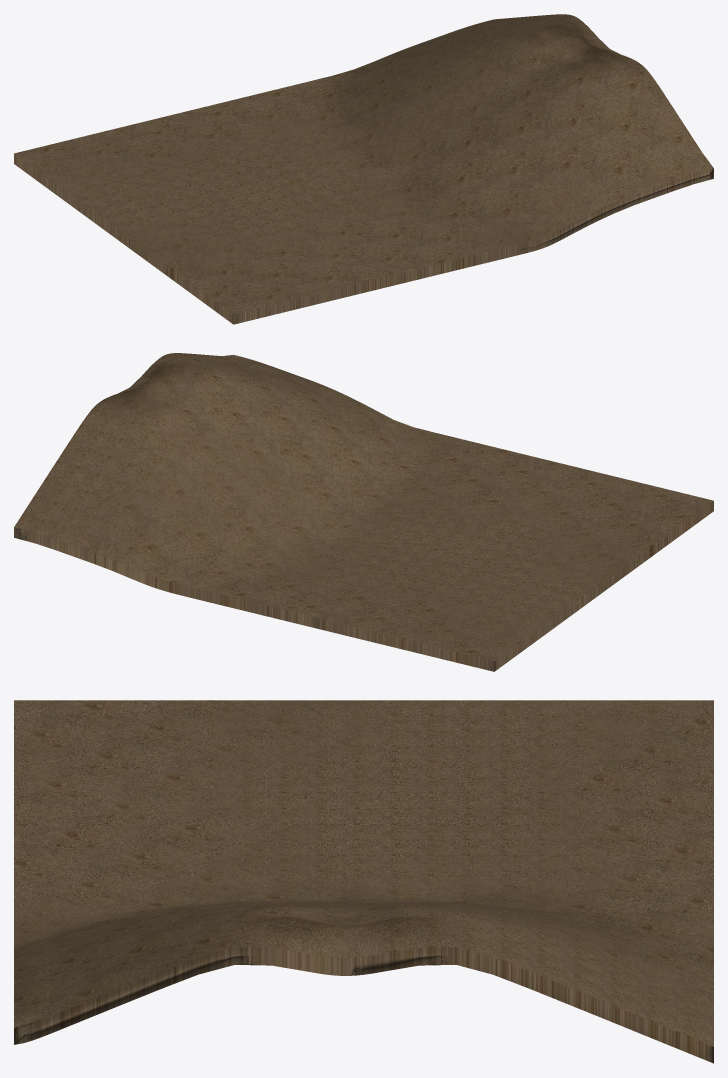
File: chunk_0_5.glb
3 renders of one model, top to bottom at view 1: azimuth 30°, elevation 25°; view 2: azimuth 150°, elevation 25°; view 3: azimuth 270°, elevation 25°, orthographic. The views are drawn at different scales.
Parts seen in each view (by area): view 1: Terrain_L1, Terrain_L0, Terrain_L2; view 2: Terrain_L1, Terrain_L0, Terrain_L2; view 3: Terrain_L1, Terrain_L0, Terrain_L2.
Boxes of the visible parts, x1,y1,x2,y2 form: Terrain_L1: (14,15,710,323); Terrain_L0: (14,14,713,324); Terrain_L2: (14,18,713,323); Terrain_L1: (14,354,713,671); Terrain_L0: (14,353,713,671); Terrain_L2: (14,355,713,666); Terrain_L1: (14,700,713,1062); Terrain_L0: (14,886,713,1063); Terrain_L2: (14,886,713,1061).
Size of the model in its own units: 96 by 18.05 by 76.01.
1 material, 1 textured.
